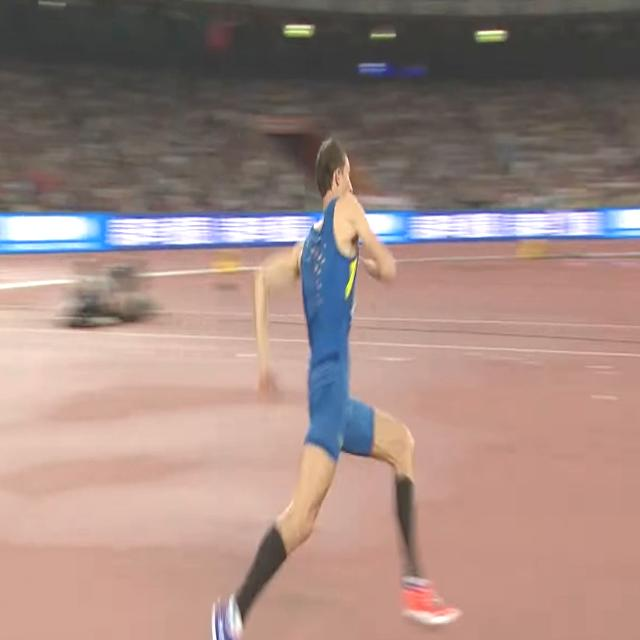run: (212, 136, 464, 640)
